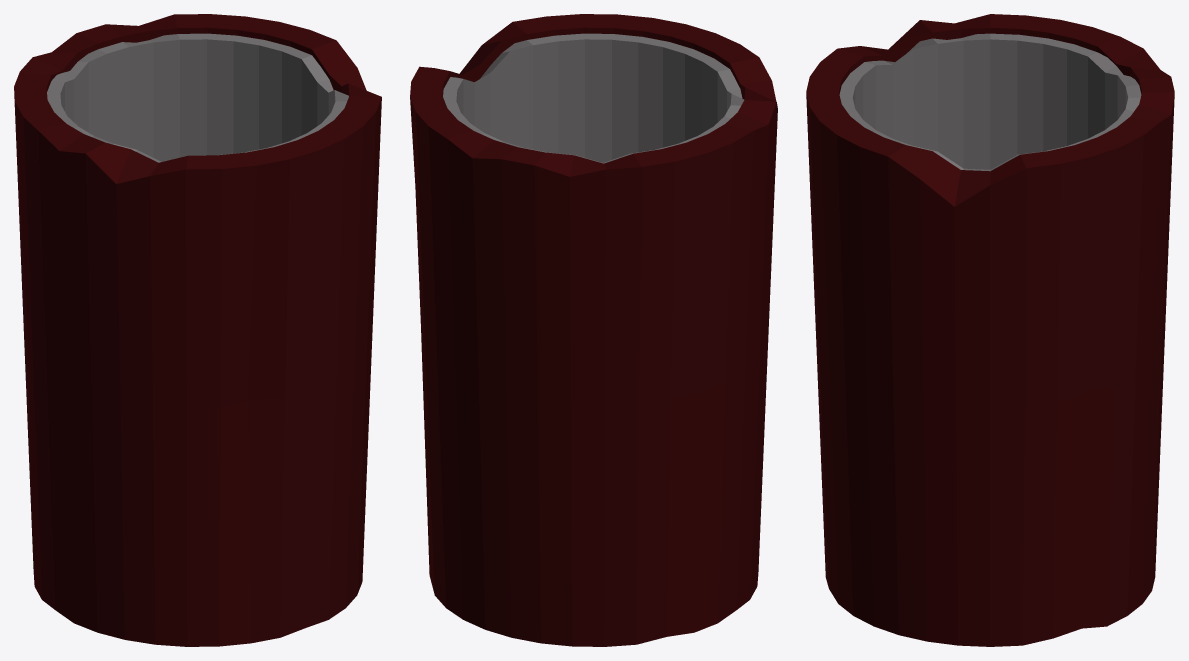
The model's file is trash2.fbx.
3 views of the same model, side by side, from view 1: azimuth 30°, elevation 25°; view 2: azimuth 150°, elevation 25°; view 3: azimuth 270°, elevation 25° (orthographic).
Visible parts, largest first — view 1: Cylinder, Cylinder.001; view 2: Cylinder, Cylinder.001; view 3: Cylinder, Cylinder.001.
Part boxes in pixels (left/top/right/bottom): Cylinder: left=14, top=14, right=381, bottom=646; Cylinder.001: left=47, top=33, right=348, bottom=162; Cylinder: left=410, top=14, right=777, bottom=646; Cylinder.001: left=443, top=33, right=744, bottom=163; Cylinder: left=806, top=14, right=1174, bottom=646; Cylinder.001: left=839, top=33, right=1141, bottom=171.
Bounding box in the file's own units: 101 × 146 × 101.
